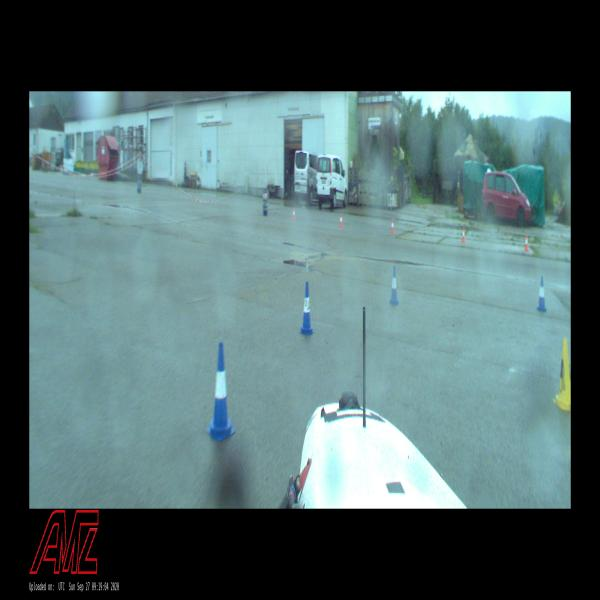blue_cone: (207, 342, 236, 440), (299, 282, 315, 334), (389, 266, 398, 304), (537, 277, 546, 311)
orange_cone: (524, 236, 528, 251), (339, 215, 343, 227), (391, 220, 394, 233), (462, 228, 465, 241), (293, 209, 295, 219)
yellow_cone: (552, 338, 570, 410)
